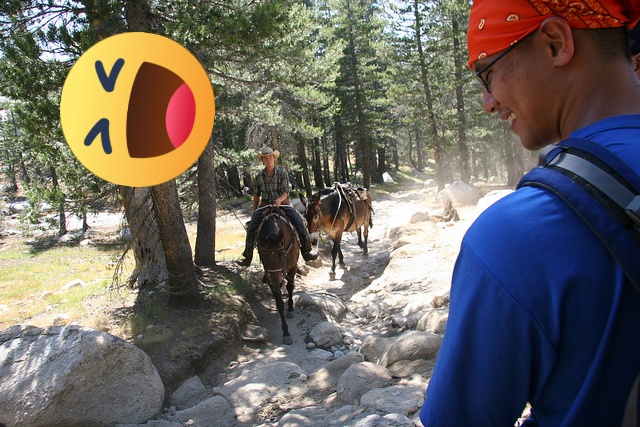haha: (60, 32, 215, 187)
